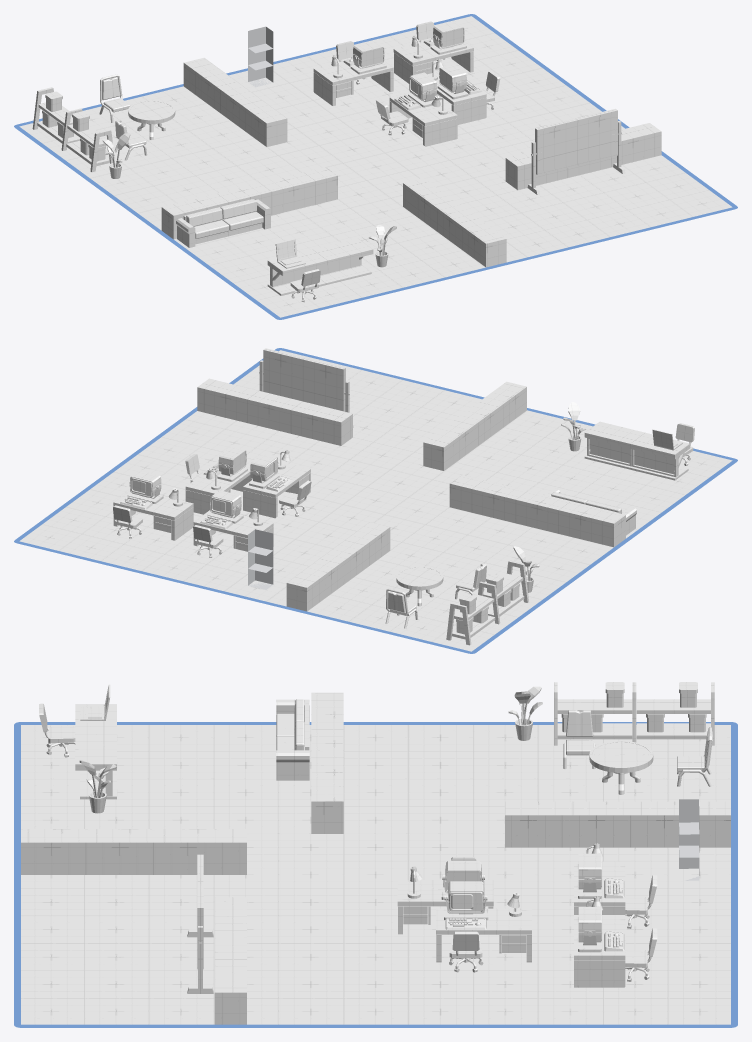
Rendered from office.backup.glb.
3 renders of one model, top to bottom at view 1: azimuth 30°, elevation 25°; view 2: azimuth 150°, elevation 25°; view 3: azimuth 270°, elevation 25°, orthographic. The views are drawn at different scales.
Visible parts, largest first — view 1: static-floor, colored-border, static-board, static-cabinet, static-counter, static-sofa, static-work-desk.001, static-work-desk.003, static-work-desk.002, static-cafe-table, static-work-desk.004, static-pc (+9 smaller); view 2: static-floor, colored-border, static-board, static-counter, static-cabinet, static-work-desk.002, static-work-desk.003, static-work-desk.004, static-pc.002, static-pc.001, static-cafe-table, static-pc (+9 smaller); view 3: static-floor, colored-border, static-cabinet, static-counter, static-sofa, static-work-desk.002, static-work-desk.004, static-work-desk.003, static-pc.003, static-cafe-table, static-pc.002, static-pc.001 (+12 smaller).
Boxes of the visible parts, x1,y1,x2,y2 form: static-floor: (19, 16, 732, 317); colored-border: (14, 14, 737, 319); static-board: (527, 108, 625, 194); static-cabinet: (32, 87, 114, 172); static-counter: (267, 238, 373, 295); static-sofa: (176, 199, 271, 247); static-work-desk.001: (313, 61, 393, 105); static-work-desk.003: (389, 92, 457, 146); static-work-desk.002: (393, 41, 473, 83); static-cafe-table: (128, 100, 175, 139); static-work-desk.004: (427, 71, 486, 124); static-pc: (394, 72, 436, 110); static-floor: (19, 350, 732, 651); colored-border: (14, 348, 737, 653); static-board: (259, 348, 353, 427); static-counter: (584, 421, 690, 480); static-cabinet: (446, 560, 528, 645); static-work-desk.002: (113, 490, 193, 540); static-work-desk.003: (243, 461, 310, 518); static-work-desk.004: (185, 466, 252, 514); static-pc.002: (120, 470, 163, 509); static-pc.001: (200, 490, 243, 529); static-cafe-table: (396, 566, 443, 606); static-pc: (249, 454, 293, 491); static-floor: (21, 692, 730, 1024); colored-border: (14, 722, 737, 1027); static-cabinet: (554, 682, 714, 745); static-counter: (75, 704, 116, 799); static-sofa: (276, 699, 309, 780); static-work-desk.002: (574, 915, 625, 987); static-work-desk.004: (436, 908, 531, 962); static-work-desk.003: (397, 880, 493, 934); static-pc.003: (444, 881, 488, 929); static-cafe-table: (589, 741, 653, 794); static-pc.002: (578, 907, 624, 952); static-pc.001: (578, 853, 624, 898).
Size of what is drawn, in the model's own units: 10.2 by 1.31 by 10.2.
Materials: 4 (2 with a texture image).
